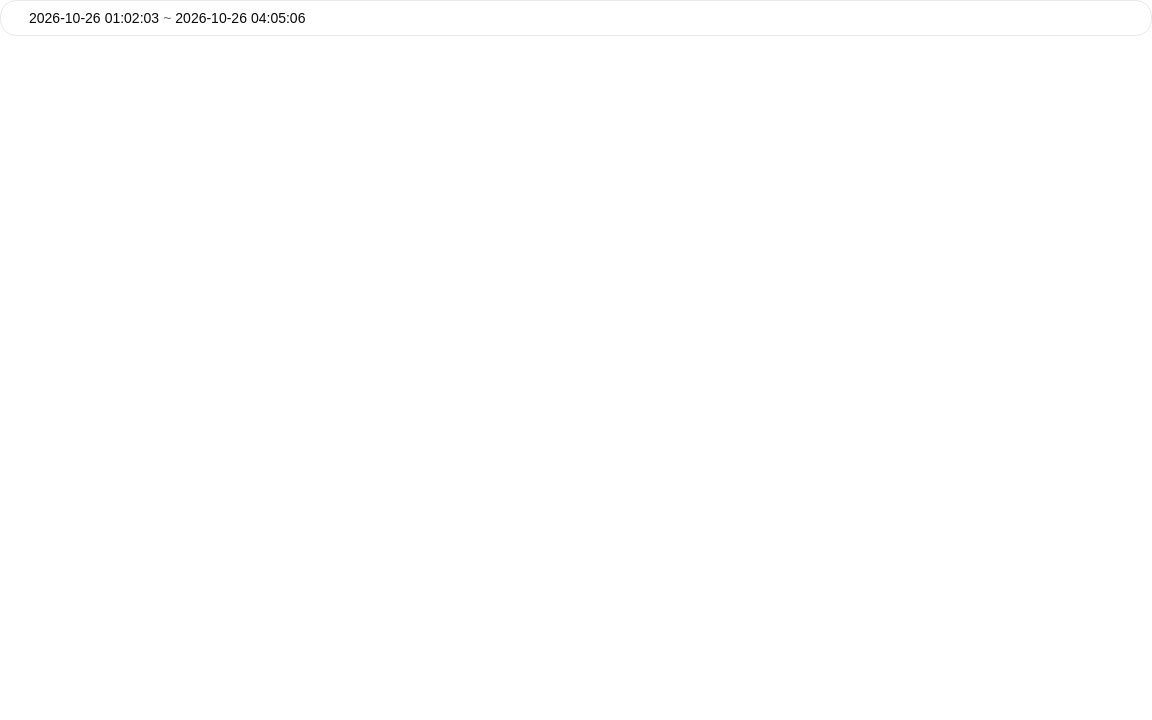
Test: custom log time range picker › opens separate hour, minute, and second selectors
This screenshot has width=1152, height=720.
Click the button named "Start Time" at x=132, y=18, box x1=105 y1=8 x2=159 y2=28
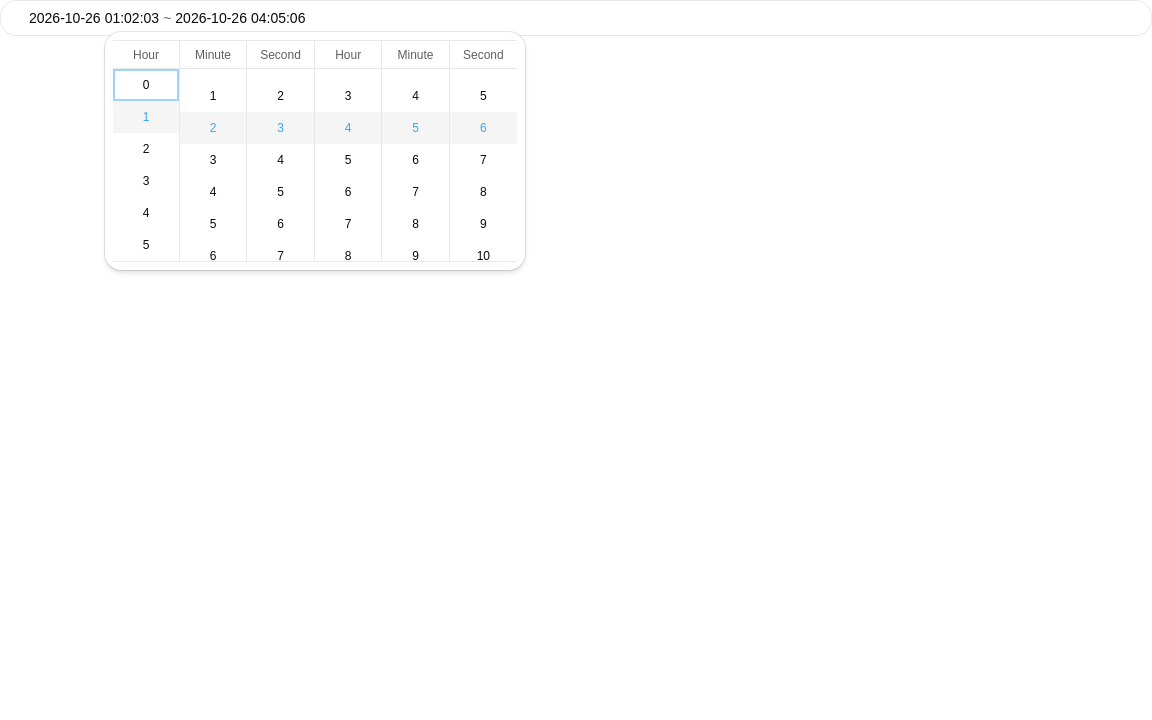
Result: the list named "Start Time Hour" is shown at x1=113 y1=69 x2=179 y2=261
Result: the list named "Start Time Minute" is shown at x1=180 y1=69 x2=246 y2=261
Result: the list named "Start Time Second" is shown at x1=247 y1=69 x2=314 y2=261
